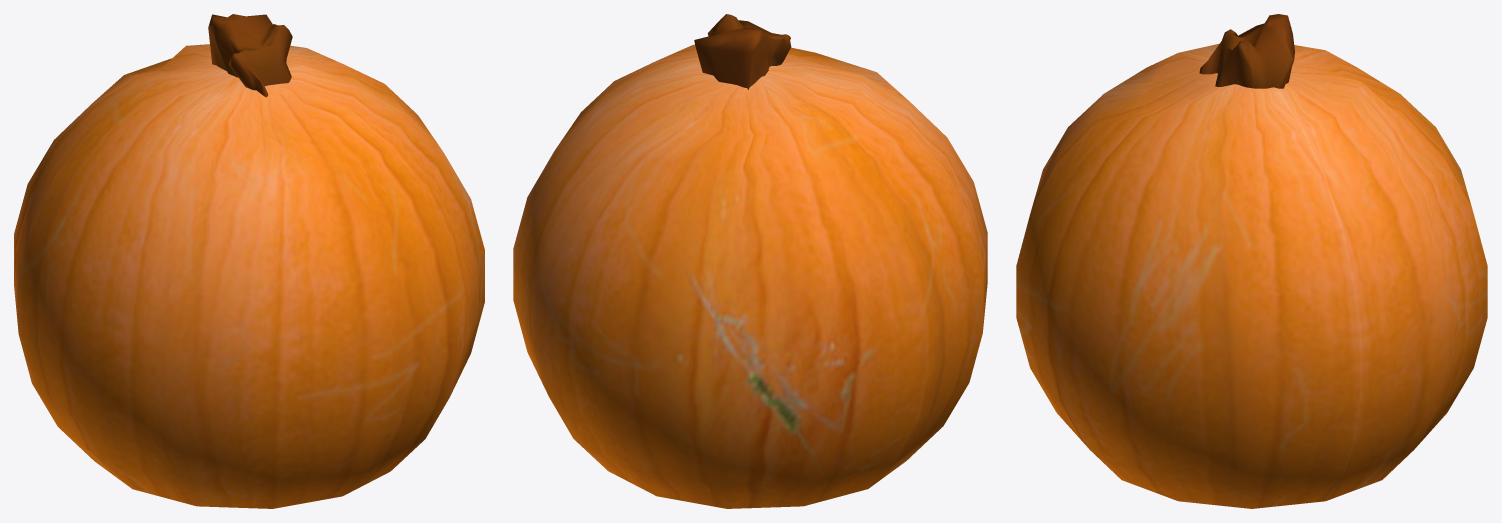
The model's file is pompoen.fbx.
3 renders of one model, left to right at view 1: azimuth 30°, elevation 25°; view 2: azimuth 150°, elevation 25°; view 3: azimuth 270°, elevation 25°, orthographic.
Visible parts, largest first — view 1: pSphere2; view 2: pSphere2; view 3: pSphere2.
Boxes of the visible parts, box(x1,y1,x2,y2) form: pSphere2: box(14, 14, 484, 508); pSphere2: box(513, 14, 987, 508); pSphere2: box(1016, 14, 1487, 508).
Size of the model in its own units: 15.49 by 16.46 by 15.6.
